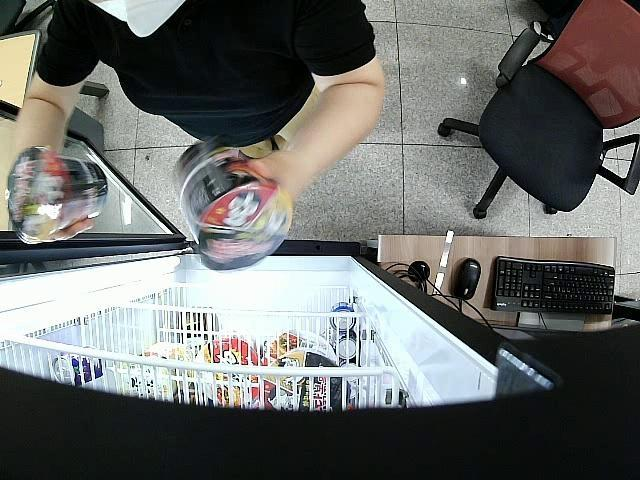08_buldak_S: (174, 138, 294, 274), (7, 147, 108, 244)
